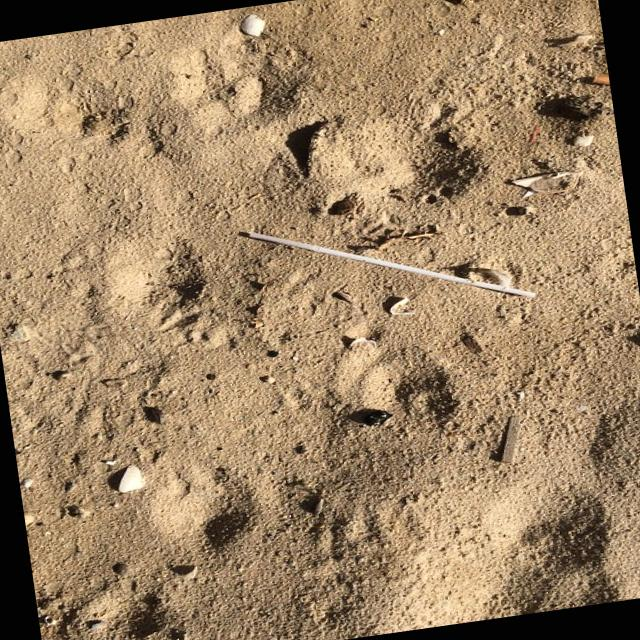Recycle: (246, 190, 537, 340)
